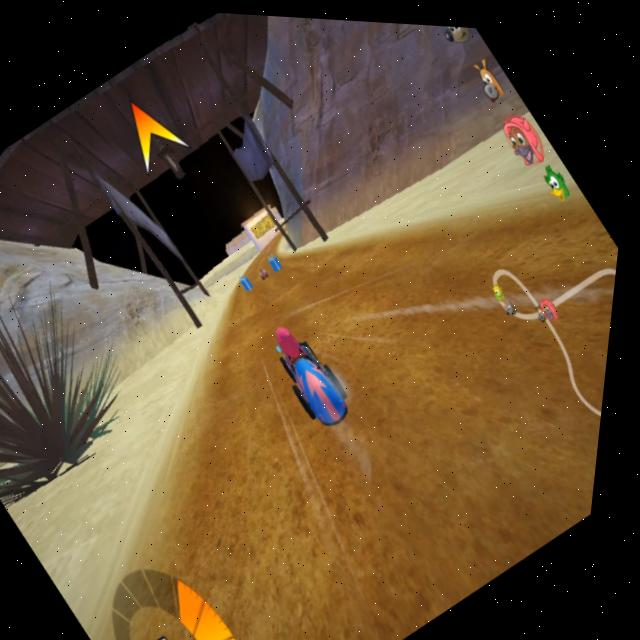bonus: (238, 264, 264, 291), (269, 244, 291, 266)
enemy_kart: (257, 258, 277, 279)
track: (289, 220, 584, 523), (225, 241, 354, 353)
